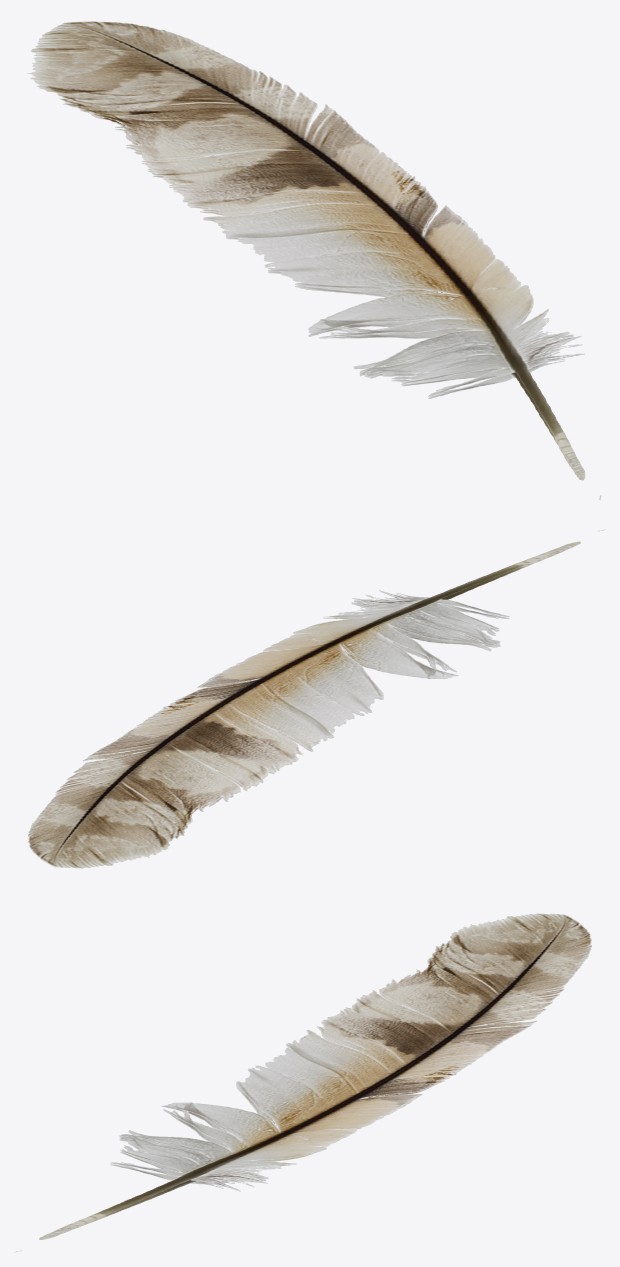
The model's file is feather.FBX.
3 views of the same model, one above another, from view 1: azimuth 30°, elevation 25°; view 2: azimuth 150°, elevation 25°; view 3: azimuth 330°, elevation 25° (orthographic). The views are drawn at different scales.
Parts seen in each view (by area): view 1: Box001; view 2: Box001; view 3: Box001.
Part boxes in pixels (<box>): Box001: <box>27,21,601,500</box>; Box001: <box>27,529,605,868</box>; Box001: <box>14,913,591,1252</box>.
Bounding box in the file's own units: 34.4 × 1 × 139.
1 material, 1 textured.
